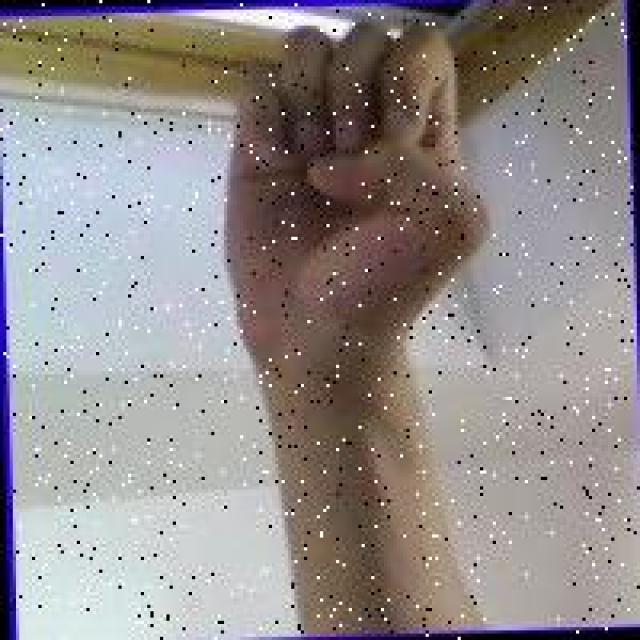E: (214, 11, 496, 382)
